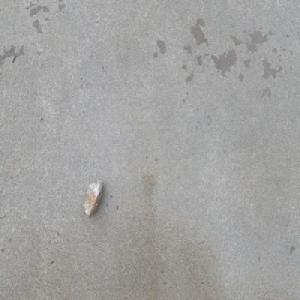Rock: (82, 174, 103, 217)
